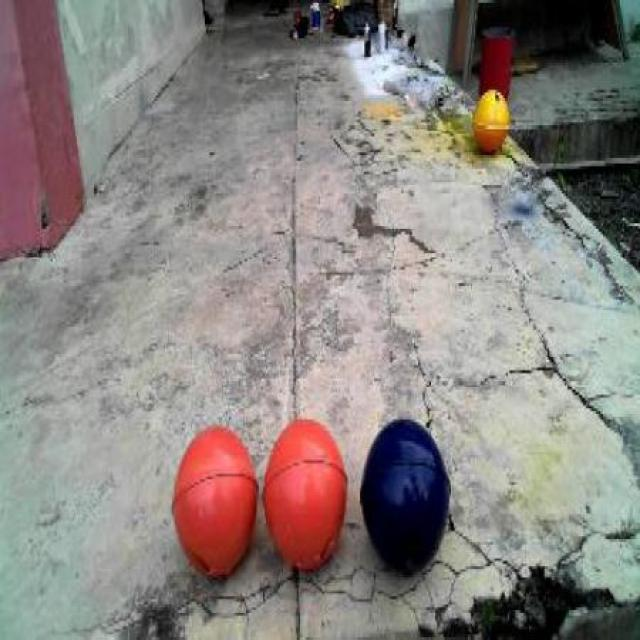buoy: (357, 409, 455, 582), (169, 417, 262, 580), (261, 414, 352, 577)
